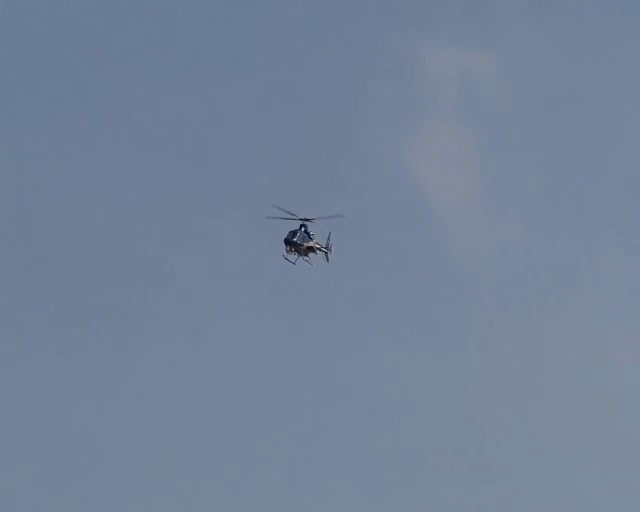HELICOPTER: (266, 202, 345, 266)
